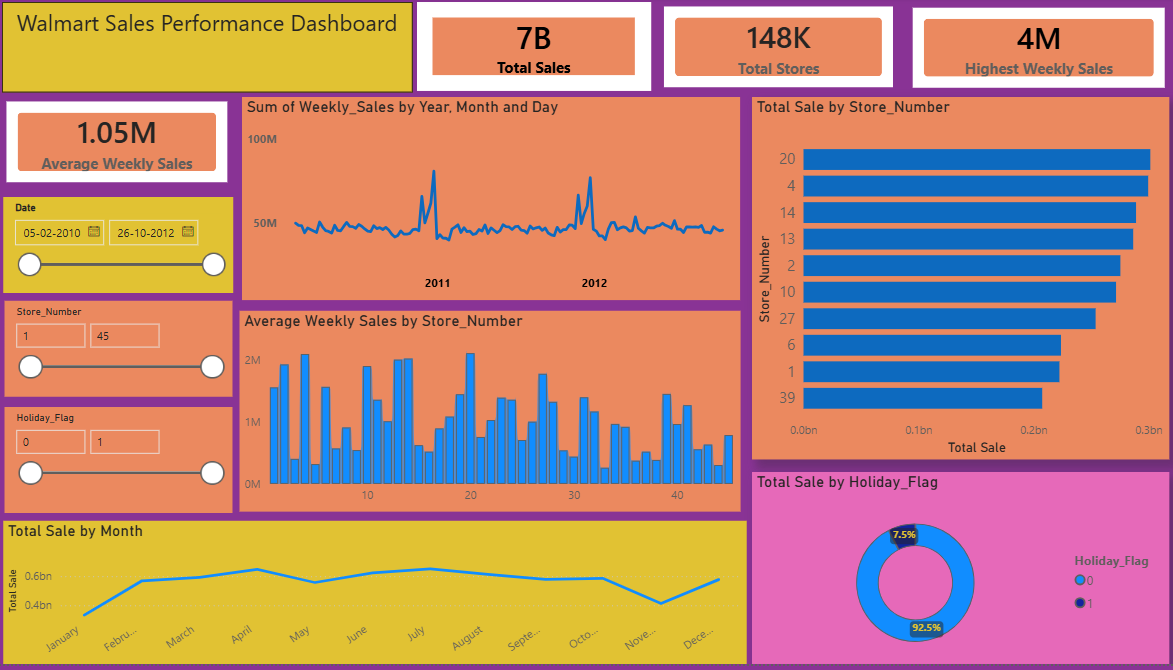

This screenshot's page, from the dashboard's own definition file:
{"tool":"powerbi","page":{"name":"Page 1","canvas":[1280,720],"ordinal":0},"visuals":[{"type":"textbox","box":[5.5,5.5,443.2,97.4],"z":0},{"type":"cardVisual","fields":{"Data":["Walmart_sales_analysis.Total Sales"]},"box":[453.3,5.3,252.5,96.1],"z":1000},{"type":"cardVisual","fields":{"Data":["Walmart_sales_analysis.Total Stores"]},"box":[715.3,5.3,258,97.4],"z":2000},{"type":"cardVisual","fields":{"Data":["Walmart_sales_analysis.Highest Weekly Sales"]},"box":[983.3,6.7,282,96],"z":3000},{"type":"cardVisual","fields":{"Data":["Walmart_sales_analysis.Average Weekly Sales"]},"box":[5.5,108.4,248.4,97.4],"z":4000},{"type":"slicer","fields":{"Values":["Walmart_sales_analysis.Date"]},"box":[6.9,215.4,248.4,102.9],"z":5000},{"type":"slicer","fields":{"Values":["Walmart_sales_analysis.Store_Number"]},"box":[8.2,328,245.6,102.9],"z":6000},{"type":"slicer","fields":{"Values":["Walmart_sales_analysis.Holiday_Flag"]},"box":[8.2,441.9,245.6,113.9],"z":7000},{"type":"lineChart","fields":{"Y":["Sum(Walmart_sales_analysis.Weekly_Sales)"],"Category":["Walmart_sales_analysis.Date.Variation.Date Hierarchy.Year","Walmart_sales_analysis.Date.Variation.Date Hierarchy.Month","Walmart_sales_analysis.Date.Variation.Date Hierarchy.Day"]},"box":[264.8,108.4,537.9,219.6],"z":8000},{"type":"clusteredBarChart","fields":{"Category":["Walmart_sales_analysis.Store_Number"],"Y":["Walmart_sales_analysis.Total Sale"]},"box":[815.1,108.4,450.1,391.1],"z":9000},{"type":"donutChart","fields":{"Category":["Walmart_sales_analysis.Holiday_Flag"],"Y":["Walmart_sales_analysis.Total Sale"]},"box":[815.1,513.2,450.1,207.2],"z":10000},{"type":"lineChart","fields":{"Category":["Walmart_sales_analysis.Date.Variation.Date Hierarchy.Month"],"Y":["Walmart_sales_analysis.Total Sale"]},"box":[0,565,802.1,155],"z":11000},{"type":"columnChart","fields":{"Category":["Walmart_sales_analysis.Store_Number"],"Y":["Walmart_sales_analysis.Average Weekly Sales"]},"box":[262.1,338.9,540.7,216.8],"z":12000}]}

Visuals, with their boxes in screenshot pixels (x1, y1, x2, y2), scaled from the page's 1280x720 canvas onto the 1173x670 screenshot:
textbox: (x1=5, y1=5, x2=411, y2=96)
cardVisual - Walmart_sales_analysis.Total Sales: (x1=415, y1=5, x2=647, y2=94)
cardVisual - Walmart_sales_analysis.Total Stores: (x1=656, y1=5, x2=892, y2=96)
cardVisual - Walmart_sales_analysis.Highest Weekly Sales: (x1=901, y1=6, x2=1160, y2=96)
cardVisual - Walmart_sales_analysis.Average Weekly Sales: (x1=5, y1=101, x2=233, y2=192)
slicer - Walmart_sales_analysis.Date: (x1=6, y1=200, x2=234, y2=296)
slicer - Walmart_sales_analysis.Store_Number: (x1=8, y1=305, x2=233, y2=401)
slicer - Walmart_sales_analysis.Holiday_Flag: (x1=8, y1=411, x2=233, y2=517)
lineChart - Sum(Walmart_sales_analysis.Weekly_Sales) x Walmart_sales_analysis.Date.Variation.Date Hierarchy.Year: (x1=243, y1=101, x2=736, y2=305)
clusteredBarChart - Walmart_sales_analysis.Store_Number x Walmart_sales_analysis.Total Sale: (x1=747, y1=101, x2=1159, y2=465)
donutChart - Walmart_sales_analysis.Holiday_Flag x Walmart_sales_analysis.Total Sale: (x1=747, y1=478, x2=1159, y2=669)
lineChart - Walmart_sales_analysis.Date.Variation.Date Hierarchy.Month x Walmart_sales_analysis.Total Sale: (x1=0, y1=526, x2=735, y2=669)
columnChart - Walmart_sales_analysis.Store_Number x Walmart_sales_analysis.Average Weekly Sales: (x1=240, y1=315, x2=736, y2=517)
